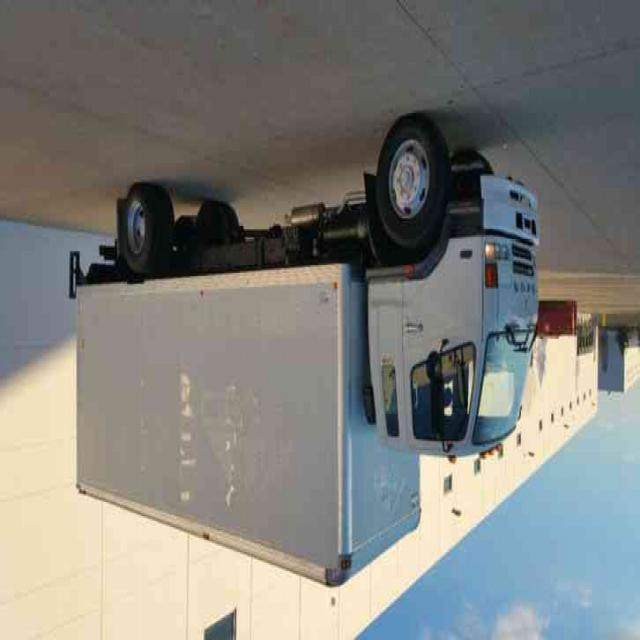truck: (67, 124, 540, 584)
